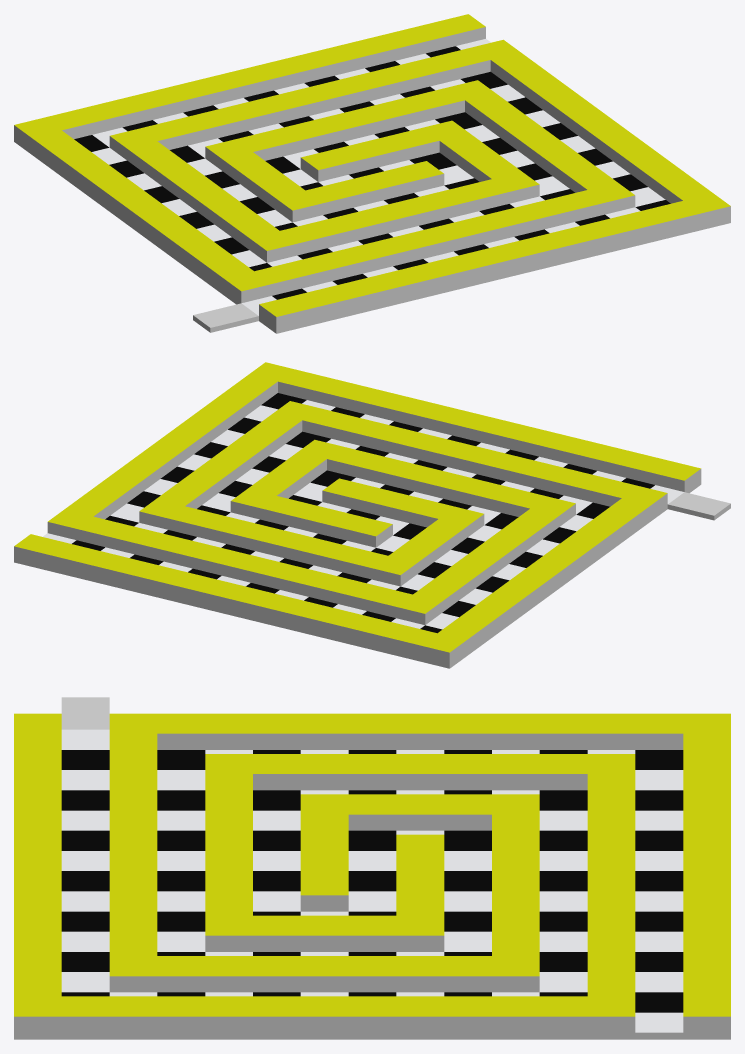
3 renders of one model, top to bottom at view 1: azimuth 30°, elevation 25°; view 2: azimuth 150°, elevation 25°; view 3: azimuth 270°, elevation 25°, orthographic. The views are drawn at different scales.
Visible parts, largest first — view 1: Cube; view 2: Cube; view 3: Cube.
Part boxes in pixels (x1,y1,x2,y2): Cube: [14, 14, 730, 333]; Cube: [14, 362, 730, 668]; Cube: [14, 697, 730, 1039].
Size of the model in its own units: 2114 by 67.59 by 1910.
